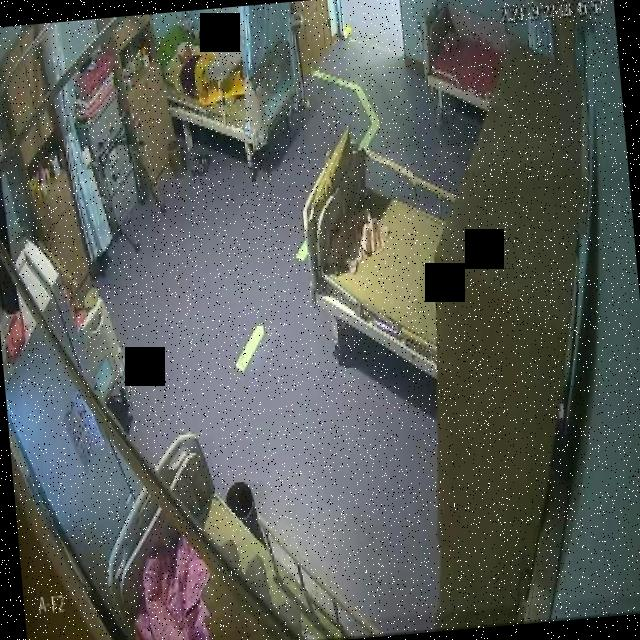bed: (93, 419, 351, 640), (294, 136, 439, 392), (166, 38, 304, 184), (414, 0, 491, 129)
walker: (93, 106, 170, 258)
